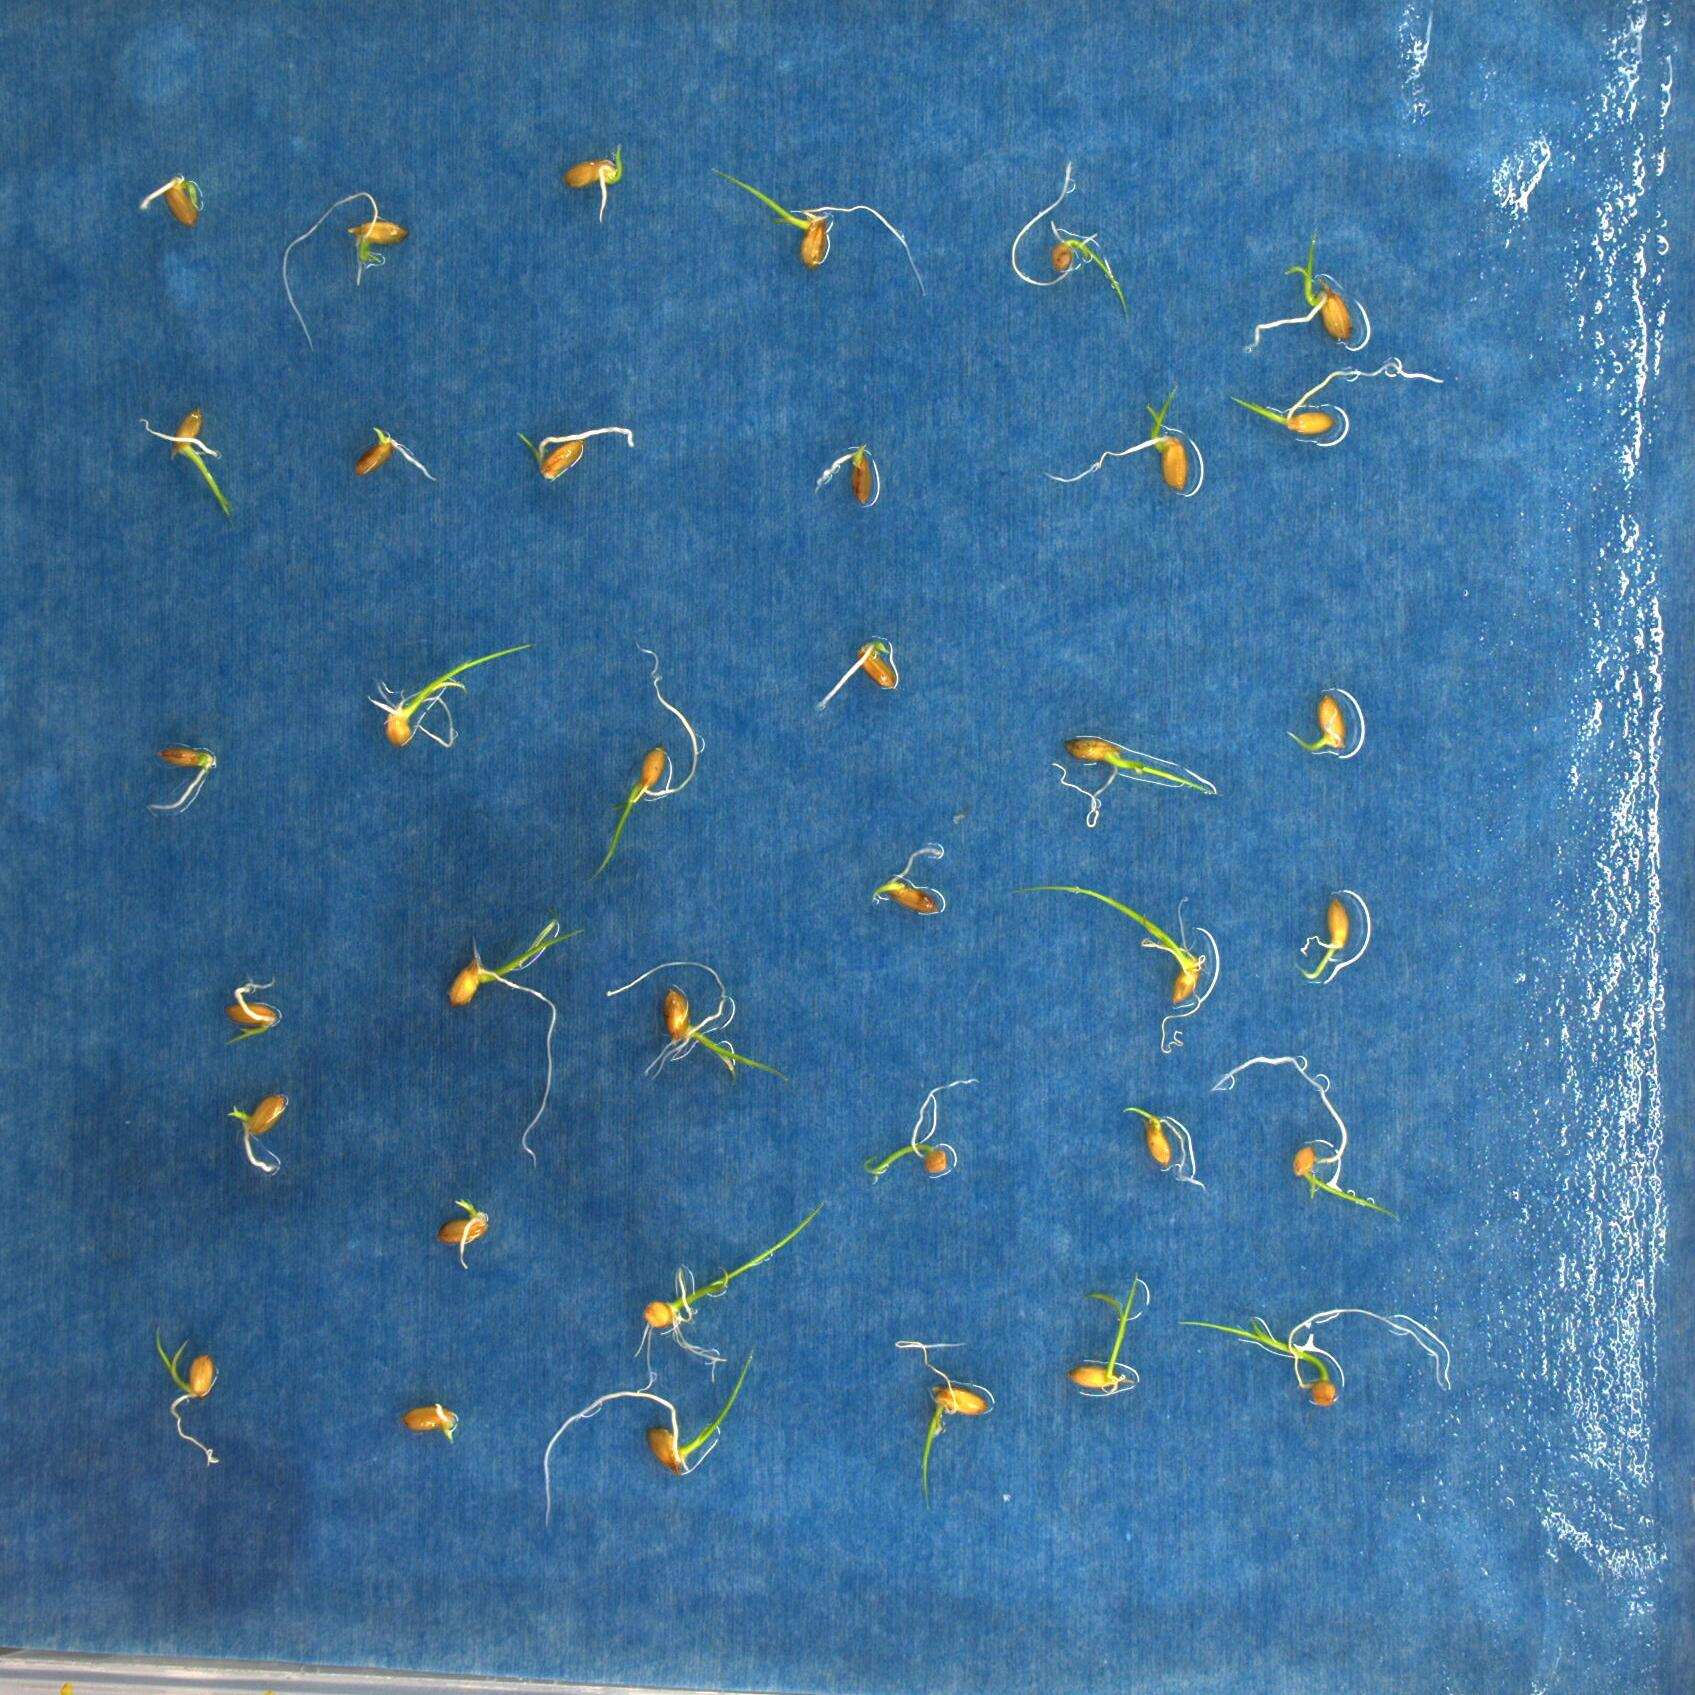not sprout: (349, 419, 439, 486), (222, 1090, 292, 1173), (146, 747, 216, 813), (399, 1405, 463, 1444)
sprout: (543, 1349, 756, 1527), (636, 1197, 826, 1391), (449, 916, 584, 1169), (1017, 885, 1212, 1059), (1212, 1057, 1400, 1226), (705, 168, 930, 303), (587, 643, 703, 882), (1180, 1302, 1445, 1406), (602, 959, 792, 1087), (1010, 160, 1135, 328), (1228, 357, 1450, 447), (284, 189, 407, 349), (891, 1335, 987, 1513), (1037, 382, 1191, 494), (371, 644, 532, 750), (1239, 210, 1350, 349), (1049, 736, 1214, 826), (858, 1077, 969, 1180), (137, 408, 236, 518), (152, 1327, 224, 1464), (1066, 1270, 1142, 1397), (1119, 1107, 1211, 1197), (514, 424, 636, 483), (813, 641, 897, 706), (869, 847, 945, 919), (563, 143, 626, 222), (810, 442, 879, 511), (430, 1198, 490, 1273), (1296, 897, 1350, 979), (220, 978, 281, 1048), (1287, 694, 1347, 754), (140, 174, 202, 228)
